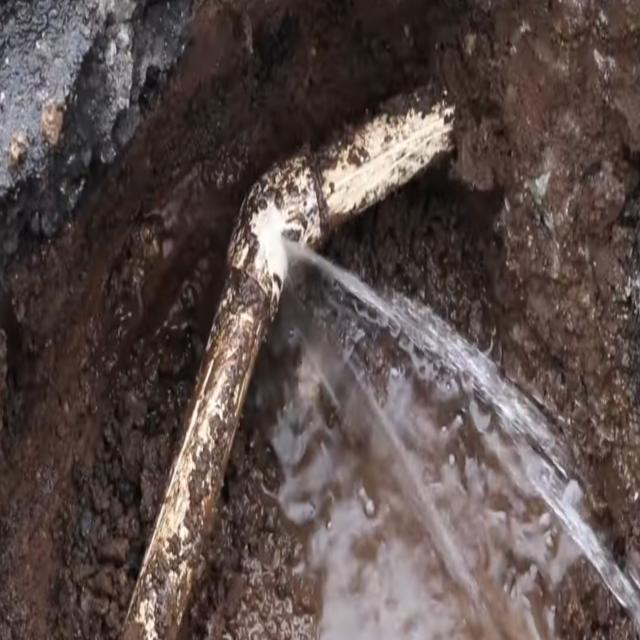leak: (290, 247, 640, 629)
